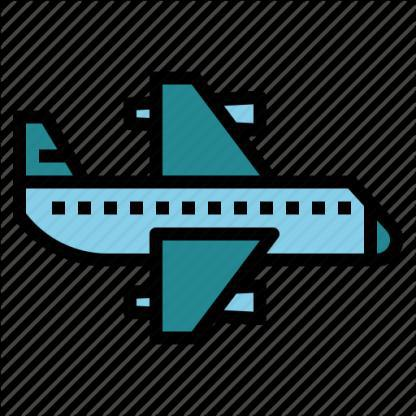CIV_Plane: (0, 70, 406, 354)
